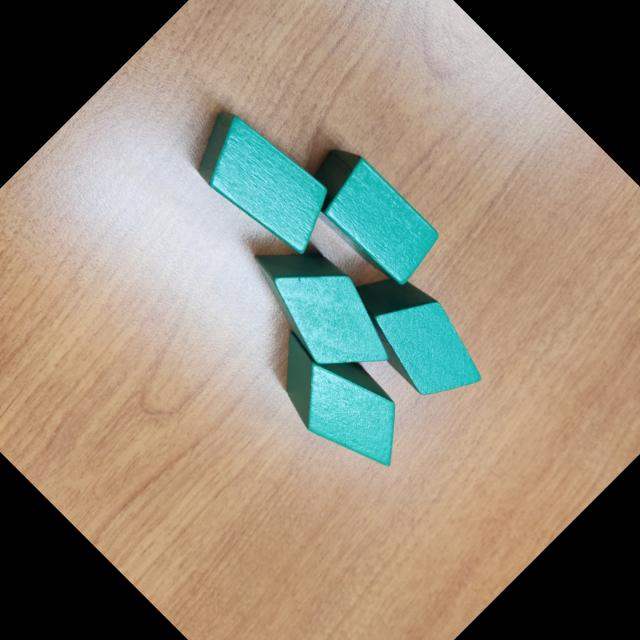green: (228, 216, 414, 402), (248, 313, 427, 492), (176, 96, 347, 266), (331, 251, 499, 418), (288, 136, 448, 295)
